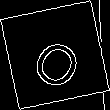O_NE: (23, 22, 87, 88)
